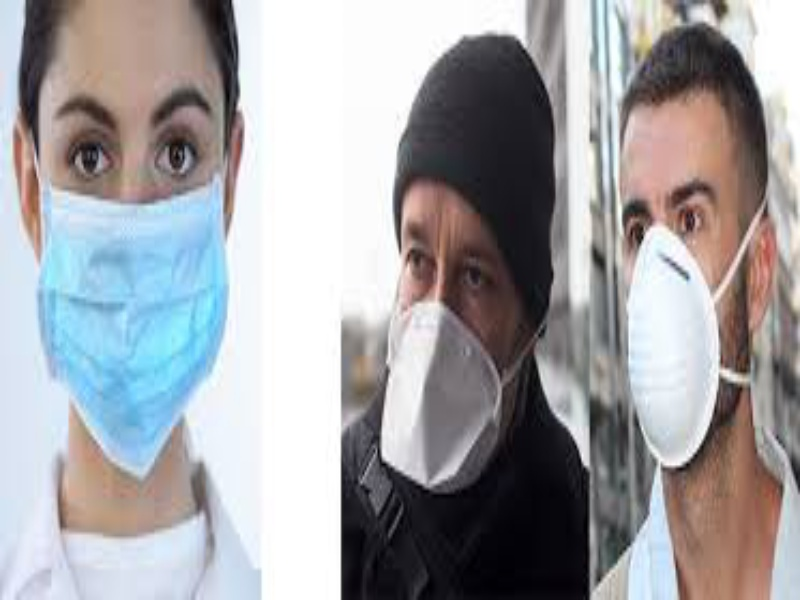ManaoArotava: (7, 5, 263, 505), (601, 50, 794, 496), (371, 108, 554, 524)
